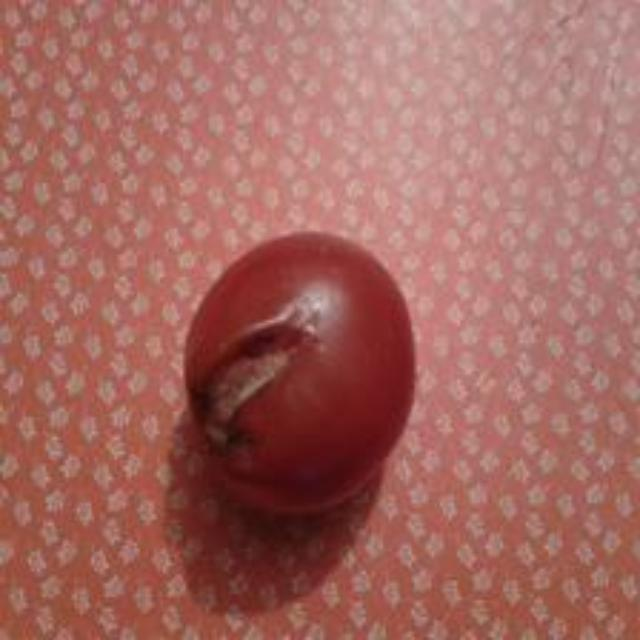defect: (179, 224, 421, 518)
